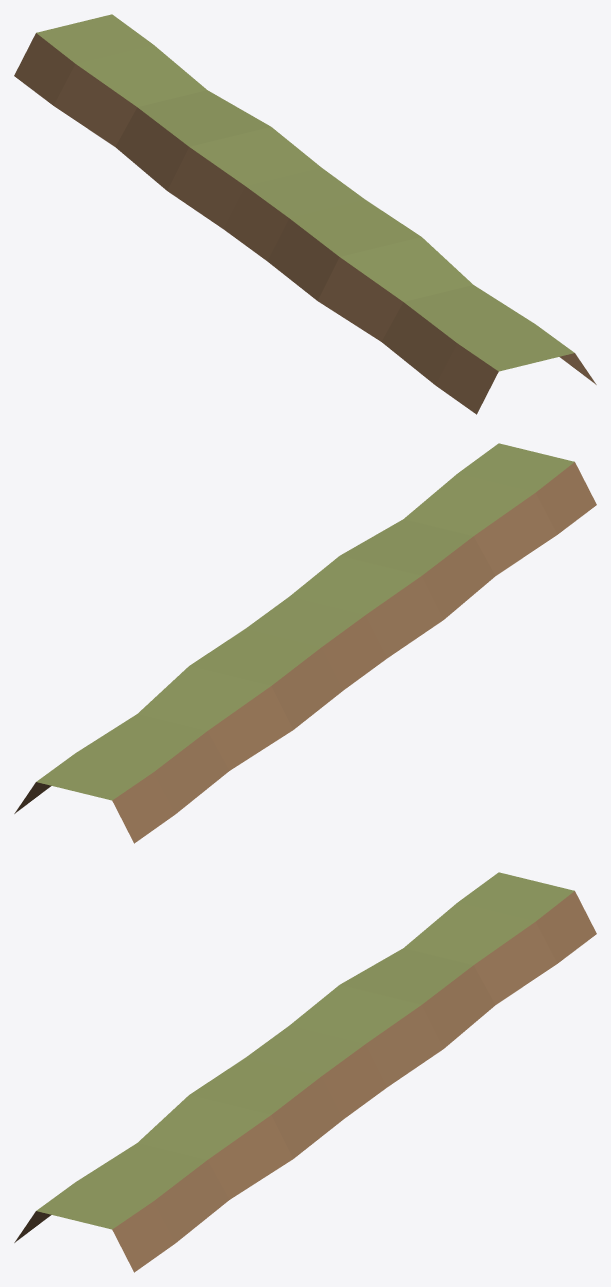
The model's file is Varambu_Straight.glb.
3 renders of one model, top to bottom at view 1: azimuth 30°, elevation 25°; view 2: azimuth 150°, elevation 25°; view 3: azimuth 330°, elevation 25°, orthographic.
Parts seen in each view (by area): view 1: Varambu_Straight; view 2: Varambu_Straight; view 3: Varambu_Straight.
Part boxes in pixels (x1=…): Varambu_Straight: x1=14, y1=14, x2=596, y2=414; Varambu_Straight: x1=14, y1=443, x2=596, y2=843; Varambu_Straight: x1=14, y1=872, x2=596, y2=1272.
Bounding box in the file's own units: 0.63 × 0.185 × 4.
